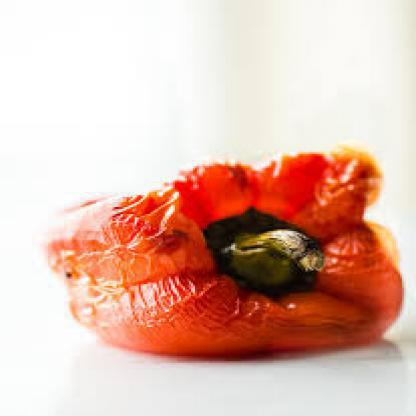capsicum_rotten: (26, 120, 406, 375)
